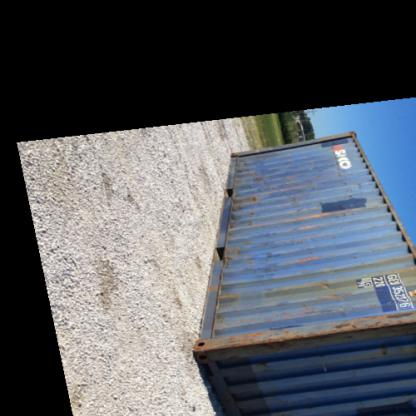Damage: (214, 322, 320, 356), (336, 308, 416, 336), (324, 143, 358, 203), (245, 184, 267, 233), (257, 247, 281, 283), (321, 272, 347, 300), (290, 186, 312, 212), (235, 156, 257, 174), (228, 250, 244, 272), (221, 292, 243, 306)
